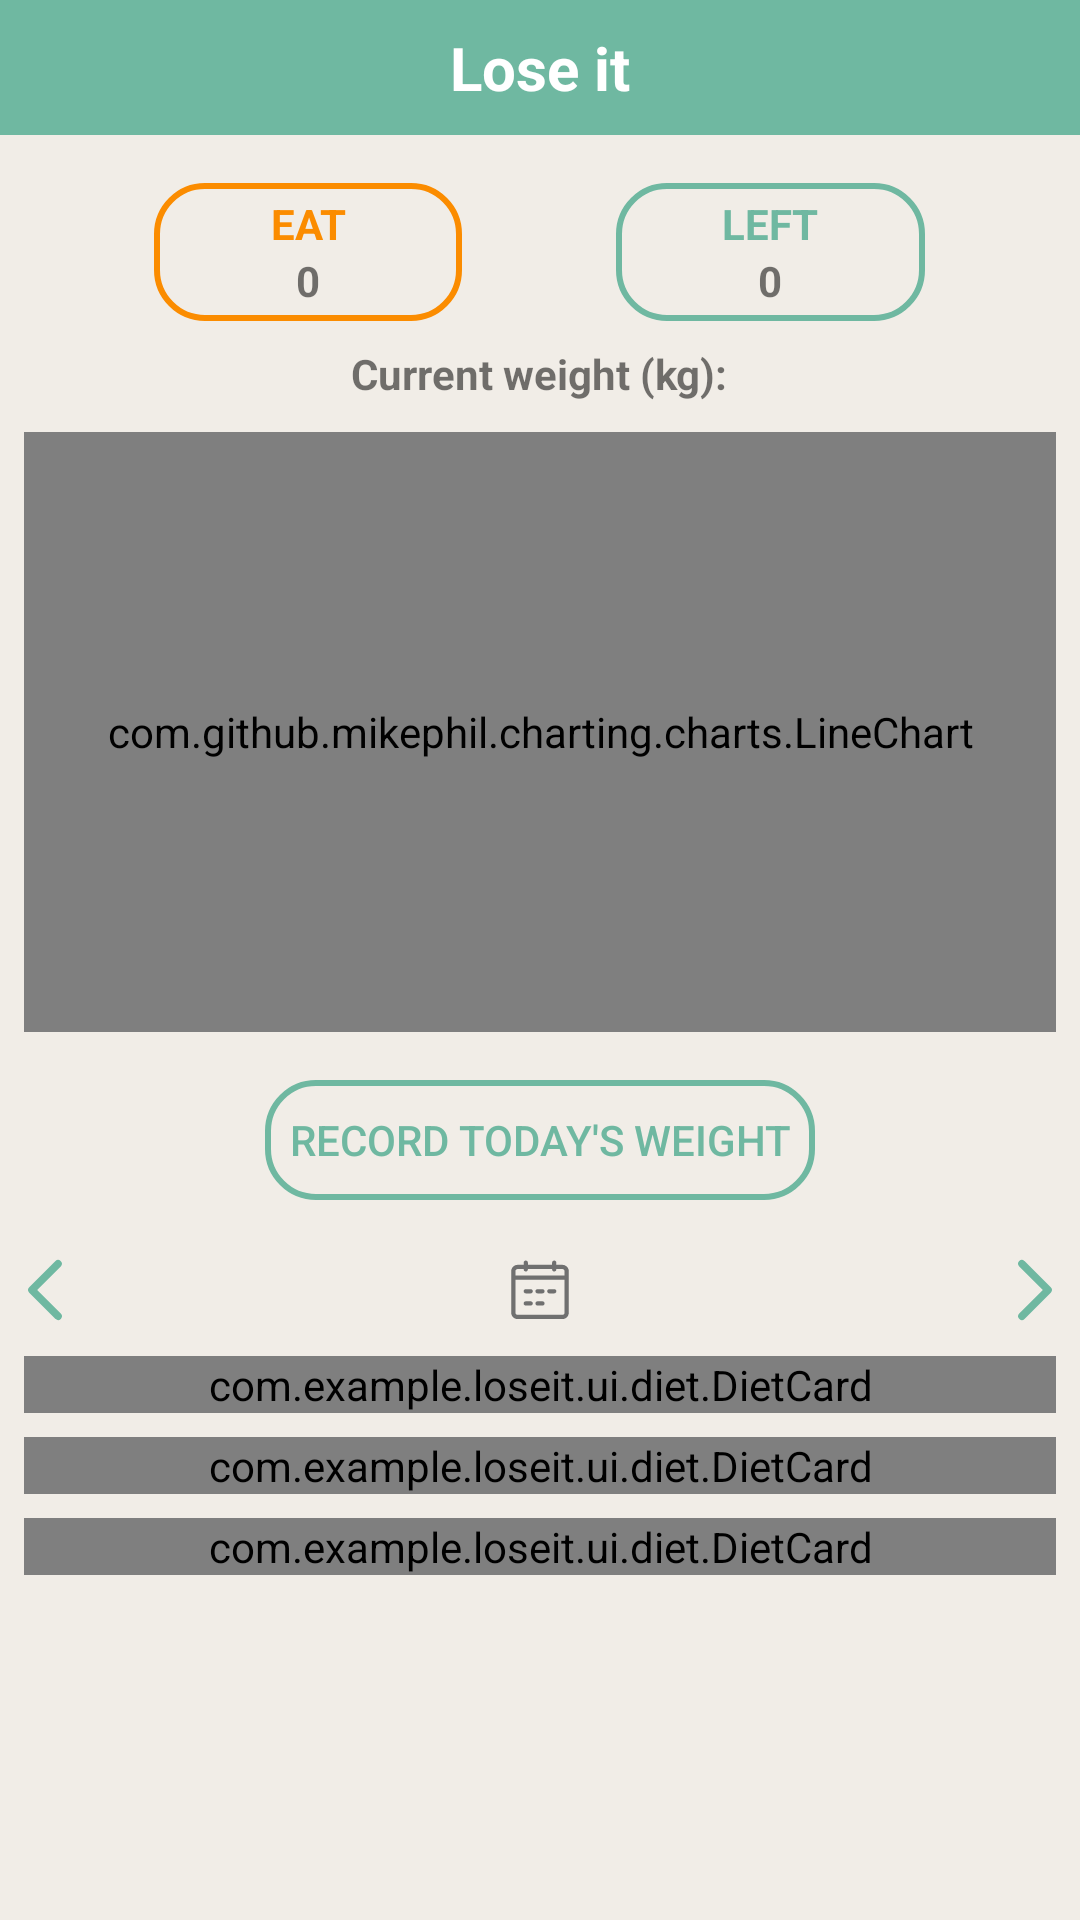

Icon bounding boxes for this 1080px x 1920px phone screenshot, format bbox=[x1, y1, x2, y2]:
back: bbox=[28, 1260, 62, 1321]
forward: bbox=[1018, 1259, 1052, 1320]
